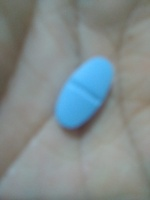Majezik: (48, 55, 118, 132)
